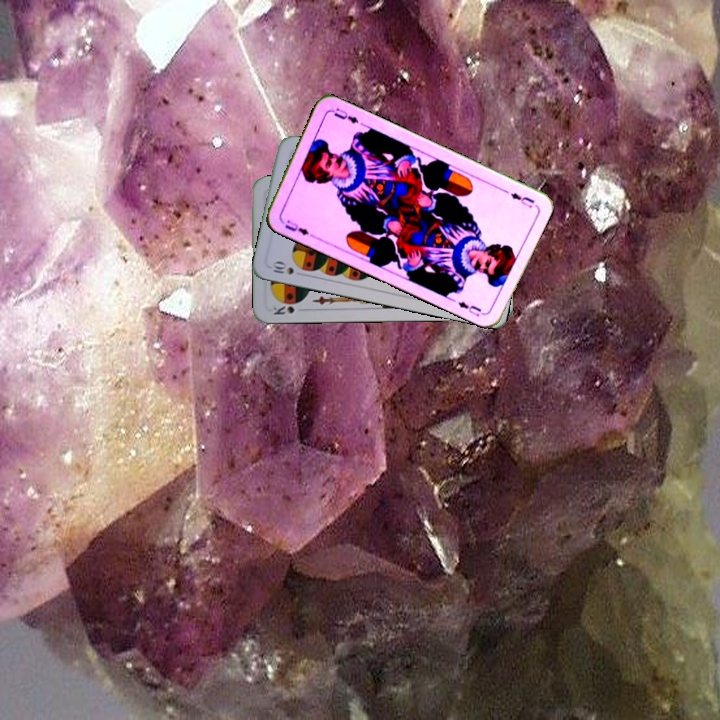EU: (277, 215, 316, 240), (506, 189, 537, 210)
S10: (267, 257, 307, 278)
SK: (269, 301, 308, 317)
